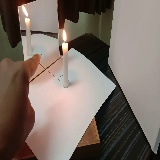fire: (62, 27, 68, 43)
